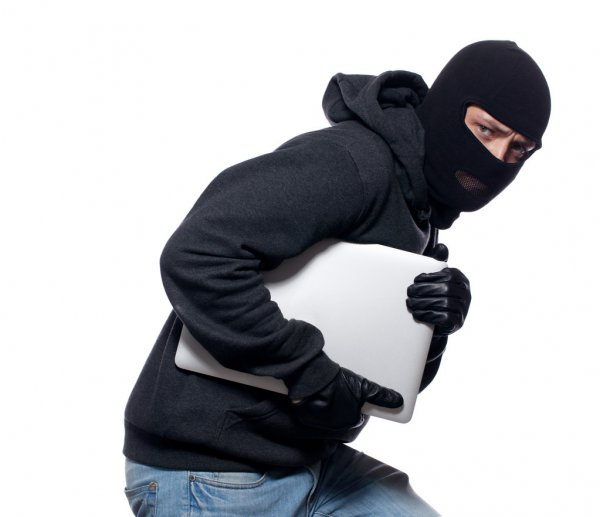thief: (185, 21, 557, 367), (399, 29, 564, 222)
